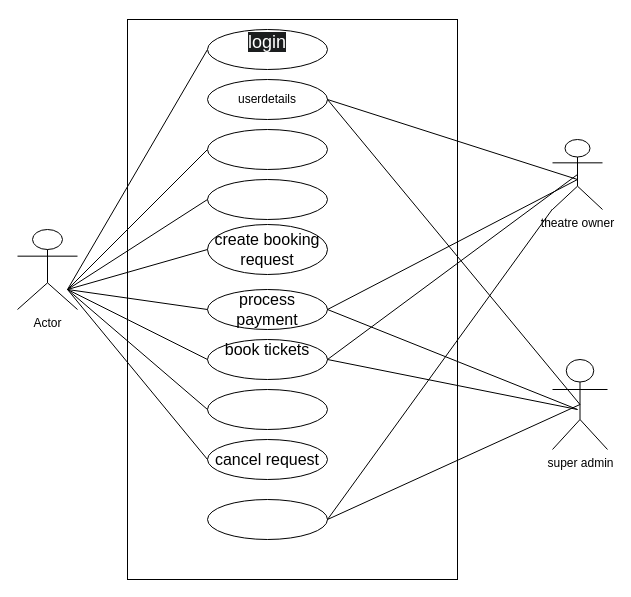
This 631x597 diagram has some shape labels left out. Each missing label, with the box of its shape:
movies dhashboard: (206, 178, 328, 220)
recieve conformation: (206, 498, 328, 540)
register: (206, 128, 328, 170)
update request: (206, 388, 328, 430)
